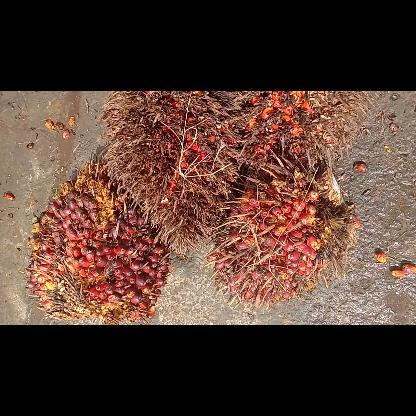TBS masak: (23, 154, 171, 324), (204, 168, 359, 312)
Terlalu masak: (96, 91, 246, 257), (235, 90, 373, 170)
